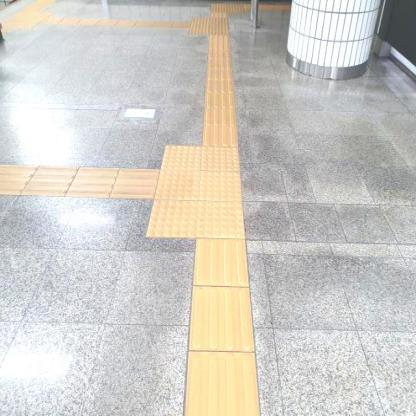podotacti: (130, 126, 270, 268), (185, 240, 261, 415), (0, 160, 155, 204), (201, 35, 235, 144), (42, 14, 190, 30), (180, 9, 239, 47)
